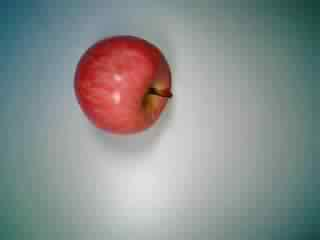apple: (68, 36, 175, 139)
